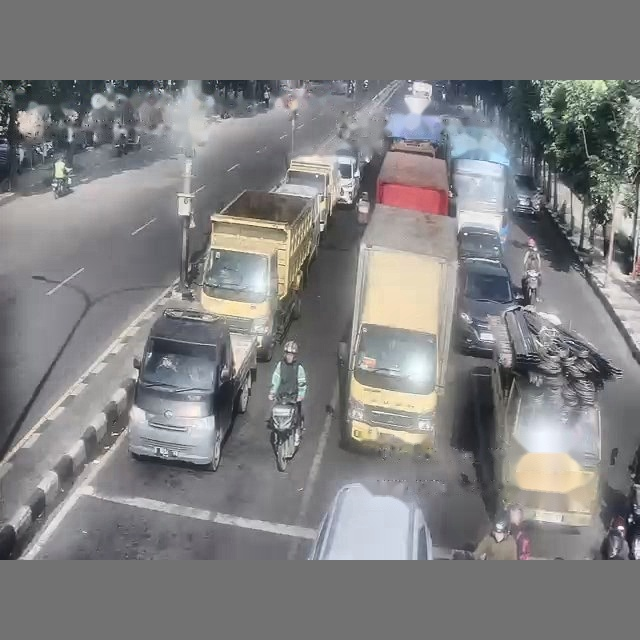Mobil: (309, 483, 433, 559), (456, 258, 520, 354), (458, 226, 502, 260), (514, 173, 536, 214), (331, 80, 347, 94)
Motor: (267, 395, 302, 471), (524, 270, 540, 306), (51, 175, 70, 198)
Truk: (484, 307, 620, 527), (338, 205, 457, 455), (128, 302, 256, 471), (201, 190, 318, 360), (376, 150, 449, 215), (283, 155, 339, 225)
